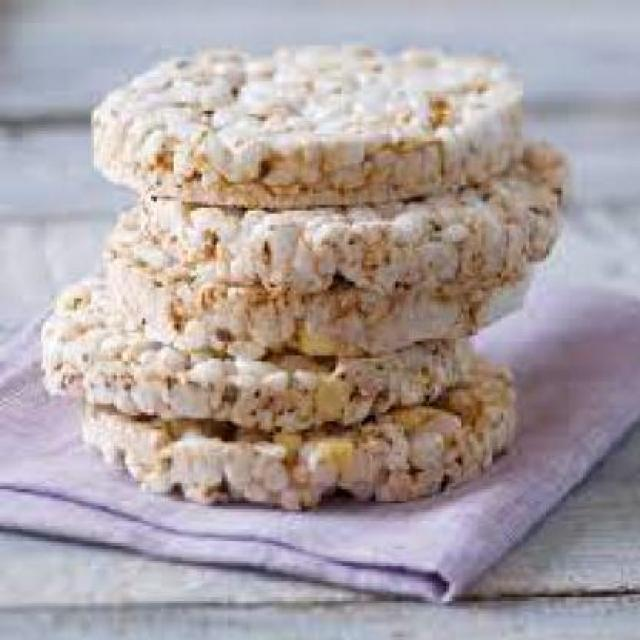Gallette di riso packaged: (88, 37, 520, 194), (119, 144, 595, 270)
